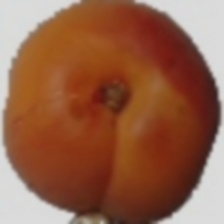apricot: (41, 4, 203, 195)
